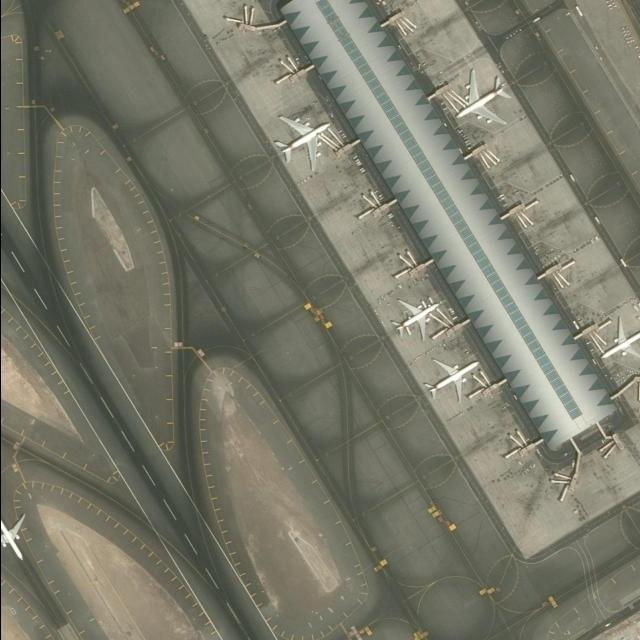Aircraft: (447, 70, 511, 127), (273, 112, 333, 168), (423, 351, 482, 401), (391, 292, 442, 342), (594, 315, 639, 367), (0, 501, 32, 560)
